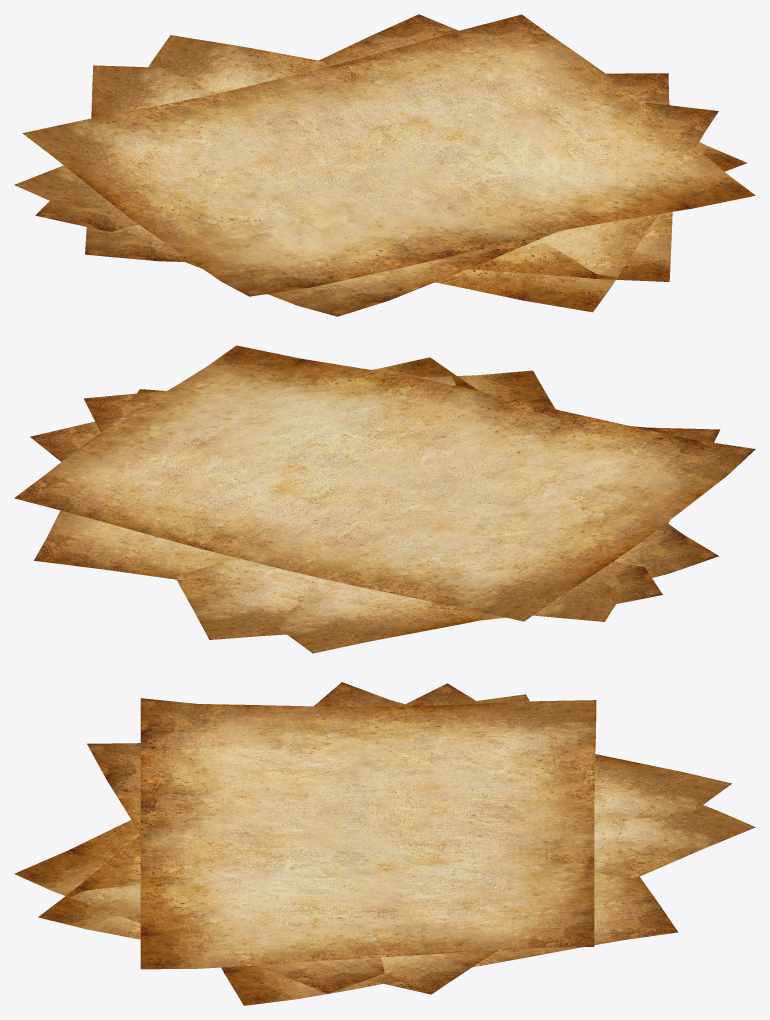
The model's file is paper.fbx.
The picture shows the model from 3 angles, top to bottom: view 1: azimuth 30°, elevation 25°; view 2: azimuth 150°, elevation 25°; view 3: azimuth 270°, elevation 25°; orthographic projection. The views are drawn at different scales.
Visible parts, largest first — view 1: Plane, Plane.001, Plane.002, Plane.003; view 2: Plane, Plane.002, Plane.001, Plane.003; view 3: Plane, Plane.001, Plane.002, Plane.003.
Part boxes in pixels (<box>): Plane: <box>22,14,755,296</box>; Plane.001: <box>35,35,718,312</box>; Plane.002: <box>85,65,672,281</box>; Plane.003: <box>14,14,746,316</box>; Plane: <box>14,345,755,621</box>; Plane.002: <box>30,357,719,653</box>; Plane.001: <box>83,370,662,639</box>; Plane.003: <box>34,389,720,621</box>; Plane: <box>140,698,596,969</box>; Plane.001: <box>14,683,755,993</box>; Plane.002: <box>38,682,731,994</box>; Plane.003: <box>87,694,677,1005</box>.
Bounding box in the file's own units: 34.73 × 2 × 35.33.
1 material, 1 textured.
